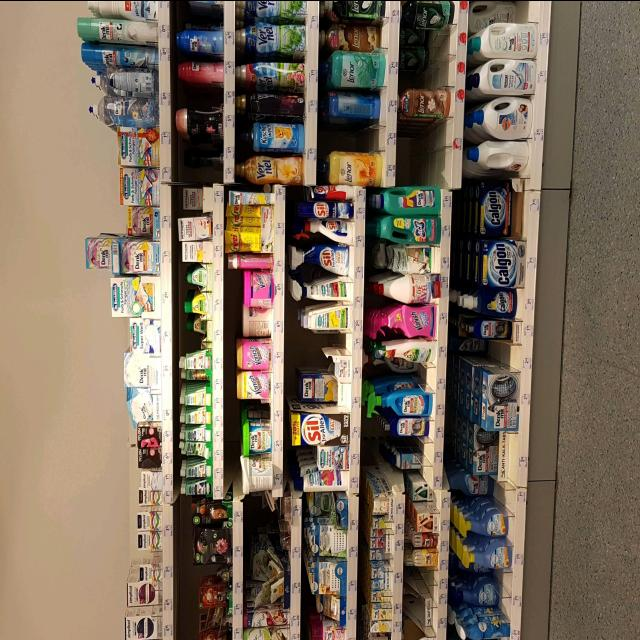empty_space: (405, 30, 451, 79), (400, 129, 444, 179)
